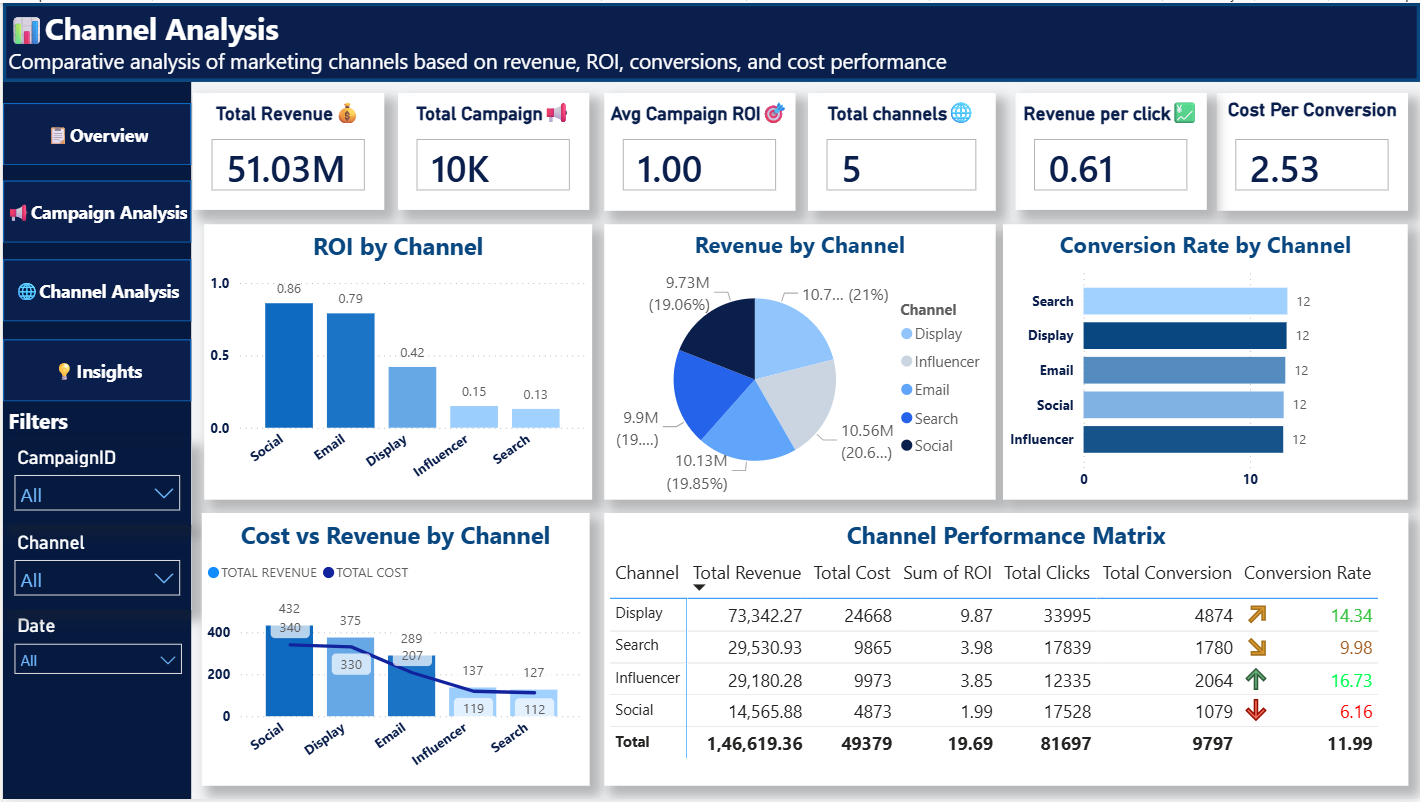

Layout of this report page (visuals, bound fields, positions):
{"tool":"powerbi","page":{"name":"Channel  analysis","canvas":[1280,720],"ordinal":2},"visuals":[{"type":"shape","box":[0,71.1,170,648.9],"z":0},{"type":"textbox","box":[0,0,274.4,71.1],"z":1000},{"type":"shape","box":[0,0,1280,71.1],"z":2000},{"type":"textbox","box":[0,0,914.6,71.1],"z":3000},{"type":"slicer","fields":{"Values":["marketing_campaign_performance_.StartDate.Variation.Date Hierarchy.Year","marketing_campaign_performance_.StartDate.Variation.Date Hierarchy.Quarter","marketing_campaign_performance_.StartDate.Variation.Date Hierarchy.Month"]},"box":[0,547.1,171.4,71.4],"z":4000},{"type":"cardVisual","title":"Total Revenue💰","fields":{"Data":["marketing_campaign_performance_.TTOTAL REVENUE"]},"box":[171.4,81.4,172.9,105.7],"z":5000},{"type":"cardVisual","title":"Total Campaign📢","fields":{"Data":["marketing_campaign_performance_.Total Campaigns"]},"box":[357.1,81.4,172.9,105.7],"z":6000},{"type":"cardVisual","title":"Avg Campaign ROI🎯","fields":{"Data":["marketing_campaign_performance_.Avg campaign ROI"]},"box":[543.1,81.3,172.8,106.1],"z":7000},{"type":"cardVisual","title":"Cost Per Conversion","fields":{"Data":["marketing_campaign_performance_.Cost Per Conversion"]},"box":[1096.4,81.3,172.8,106.1],"z":8000},{"type":"cardVisual","title":"Revenue per click💹","fields":{"Data":["marketing_campaign_performance_.REVENUE PER CLICK"]},"box":[914.3,81.4,172.9,105.7],"z":9000},{"type":"cardVisual","title":"Total channels🌐","fields":{"Data":["marketing_campaign_performance_.Total Channels"]},"box":[727.2,81.3,169.4,106.1],"z":10000},{"type":"slicer","fields":{"Values":["marketing_campaign_performance_.CampaignID"]},"box":[0,395.7,170,75.7],"z":11000},{"type":"slicer","fields":{"Values":["marketing_campaign_performance_.Channel"]},"box":[0,471.4,170,75.7],"z":12000},{"type":"textbox","box":[0,360,170,35.7],"z":13000},{"type":"clusteredColumnChart","title":"ROI by Channel","fields":{"Y":["Sum(marketing_campaign_performance_.ROI)"],"Category":["marketing_campaign_performance_.Channel"]},"box":[181.8,199.9,350,248.4],"z":14000},{"type":"pieChart","title":"Revenue by Channel","fields":{"Category":["marketing_campaign_performance_.Channel"],"Y":["marketing_campaign_performance_.TTOTAL REVENUE"]},"box":[543.1,199.9,353.4,248.4],"z":15000},{"type":"clusteredBarChart","title":"Conversion Rate by  Channel","fields":{"Category":["marketing_campaign_performance_.Channel"],"Y":["marketing_campaign_performance_.CONVERSION RATE"]},"box":[903.3,199.9,365.8,248.4],"z":16000},{"type":"lineClusteredColumnComboChart","title":"Cost vs Revenue by Channel","fields":{"Category":["marketing_campaign_performance_.Channel"],"Y":["marketing_campaign_performance_.TTOTAL REVENUE"],"Y2":["marketing_campaign_performance_.TOTAL COST"]},"box":[179.5,460.7,350,246.2],"z":17000},{"type":"pivotTable","title":"Channel Performance Matrix","fields":{"Rows":["marketing_campaign_performance_.Channel"],"Values":["marketing_campaign_performance_.TTOTAL REVENUE","marketing_campaign_performance_.TOTAL COST","Sum(marketing_campaign_performance_.ROI)","marketing_campaign_performance_.TOTAL CLICKS","marketing_campaign_performance_.TOTAL CONVERSION","marketing_campaign_performance_.CONVERSION RATE"]},"box":[543.1,460.7,726,246.2],"z":18000},{"type":"shape","box":[0,90,170,56.2],"z":20000},{"type":"shape","box":[0,160,170,56.2],"z":21000},{"type":"shape","box":[0,231.2,170,56.2],"z":22000},{"type":"shape","box":[0,303.8,170,56.2],"z":23000}]}

Visuals, with their boxes on the page's 1280x720 design canvas (x1, y1, x2, y2). These are canvas units, not pixel positions in the 1420x802 screenshot, which may show the page scaled, cropped or inside an application window:
shape: l=0, t=71, r=170, b=720
textbox: l=0, t=0, r=274, b=71
shape: l=0, t=0, r=1280, b=71
textbox: l=0, t=0, r=915, b=71
slicer - marketing_campaign_performance_.StartDate.Variation.Date Hierarchy.Year x marketing_campaign_performance_.StartDate.Variation.Date Hierarchy.Quarter: l=0, t=547, r=171, b=618
"Total Revenue💰" cardVisual: l=171, t=81, r=344, b=187
"Total Campaign📢" cardVisual: l=357, t=81, r=530, b=187
"Avg Campaign ROI🎯" cardVisual: l=543, t=81, r=716, b=187
"Cost Per Conversion" cardVisual: l=1096, t=81, r=1269, b=187
"Revenue per click💹" cardVisual: l=914, t=81, r=1087, b=187
"Total channels🌐" cardVisual: l=727, t=81, r=897, b=187
slicer - marketing_campaign_performance_.CampaignID: l=0, t=396, r=170, b=471
slicer - marketing_campaign_performance_.Channel: l=0, t=471, r=170, b=547
textbox: l=0, t=360, r=170, b=396
"ROI by Channel" clusteredColumnChart: l=182, t=200, r=532, b=448
"Revenue by Channel" pieChart: l=543, t=200, r=896, b=448
"Conversion Rate by  Channel" clusteredBarChart: l=903, t=200, r=1269, b=448
"Cost vs Revenue by Channel" lineClusteredColumnComboChart: l=180, t=461, r=530, b=707
"Channel Performance Matrix" pivotTable: l=543, t=461, r=1269, b=707
shape: l=0, t=90, r=170, b=146
shape: l=0, t=160, r=170, b=216
shape: l=0, t=231, r=170, b=287
shape: l=0, t=304, r=170, b=360
